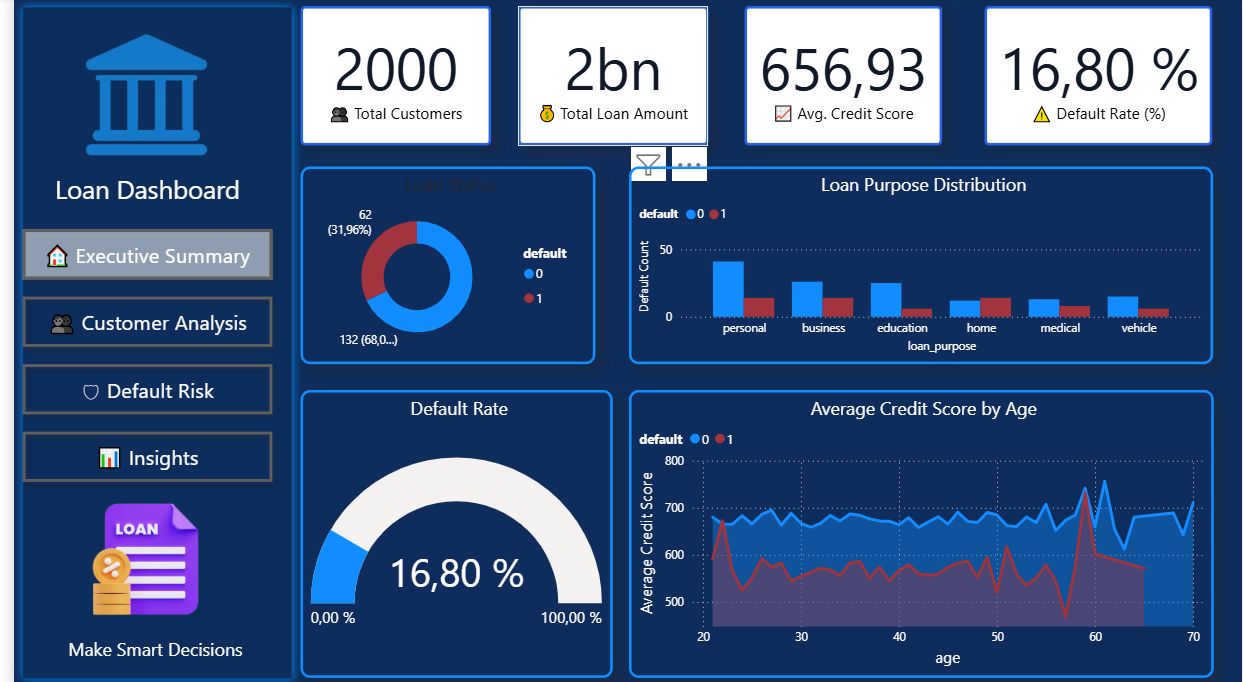

What the dashboard file says about the page in this screenshot:
{"tool":"powerbi","page":{"name":"🏠 Executive Summary","canvas":[1280,720],"ordinal":0},"visuals":[{"type":"shape","box":[0,1.6,298.5,717.4],"z":0},{"type":"image","box":[34.4,26.6,207.9,150],"z":1000},{"type":"textbox","box":[0,176.6,278.2,56.3],"z":2000},{"type":"actionButton","box":[0,232.9,278.2,70.3],"z":3000},{"type":"actionButton","box":[0,303.2,278.2,70.3],"z":4000},{"type":"actionButton","box":[0,373.6,278.2,70.3],"z":5000},{"type":"actionButton","box":[0,443.9,278.2,70.3],"z":6000},{"type":"image","box":[0,518.9,277.8,132.5],"z":7000},{"type":"card","fields":{"Values":["loan_data.Total Customers"]},"box":[298.5,9.4,198.5,145.4],"z":8000},{"type":"card","fields":{"Values":["Sum(loan_data.loan_amount)"]},"box":[504.8,9.4,196.9,145.4],"z":9000},{"type":"card","fields":{"Values":["loan_data.Average Credit Score"]},"box":[714.3,9.4,184.4,145.4],"z":10000},{"type":"card","fields":{"Values":["loan_data.Default Rate %"]},"box":[911.2,9.4,187.6,145.4],"z":11000},{"type":"textbox","box":[51.5,661.7,198.4,46.9],"z":12000},{"type":"donutChart","title":"Loan Status","fields":{"Category":["loan_data.default"],"Y":["loan_data.Default Count"]},"box":[298.3,177.2,307.4,205.9],"z":13000},{"type":"clusteredColumnChart","title":"Loan Purpose Distribution","fields":{"Category":["loan_data.loan_purpose"],"Y":["loan_data.Default Count"],"Series":["loan_data.default"]},"box":[640.5,177.2,608.7,205.9],"z":14000},{"type":"gauge","title":"Default Rate","fields":{"Y":["loan_data.Default Rate %"]},"box":[298.3,408.8,325.6,299.8],"z":15000},{"type":"lineChart","title":"Average Credit Score by Age","fields":{"Category":["loan_data.age"],"Y":["loan_data.Average Credit Score"],"Series":["loan_data.default"]},"box":[641,409,609,300],"z":16000},{"type":"slicer","fields":{"Values":["loan_data.loan_purpose","loan_data.previous_default","loan_data.age"]},"box":[1116,9.4,151.6,145.4],"z":17000}]}

Visuals, with their boxes in screenshot pixels (x1, y1, x2, y2), scaled from the page's 1280x720 canvas onto the 1243x682 screenshot:
shape: 0/2/290/681
image: 33/25/235/167
textbox: 0/167/270/221
actionButton: 0/221/270/287
actionButton: 0/287/270/354
actionButton: 0/354/270/420
actionButton: 0/420/270/487
image: 0/492/270/617
card - loan_data.Total Customers: 290/9/483/147
card - Sum(loan_data.loan_amount): 490/9/681/147
card - loan_data.Average Credit Score: 694/9/873/147
card - loan_data.Default Rate %: 885/9/1067/147
textbox: 50/627/243/671
"Loan Status" donutChart: 290/168/588/363
"Loan Purpose Distribution" clusteredColumnChart: 622/168/1213/363
"Default Rate" gauge: 290/387/606/671
"Average Credit Score by Age" lineChart: 622/387/1214/672
slicer - loan_data.loan_purpose x loan_data.previous_default: 1084/9/1231/147
